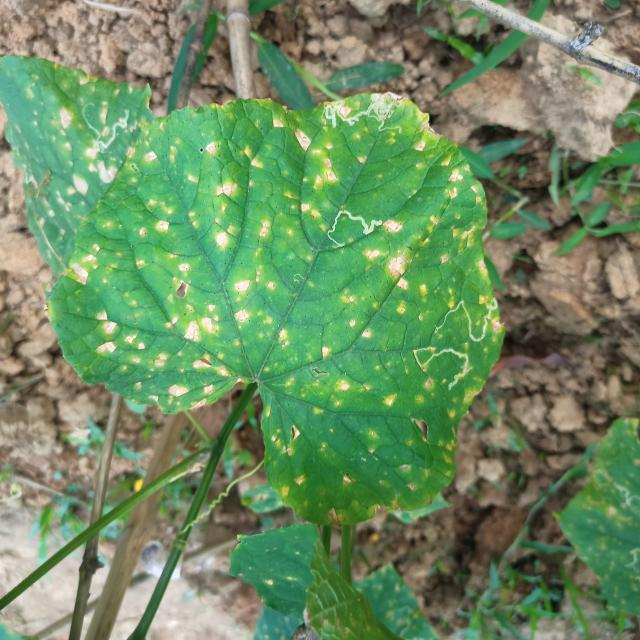disease_cucumber: (66, 107, 488, 494), (8, 72, 122, 234)
